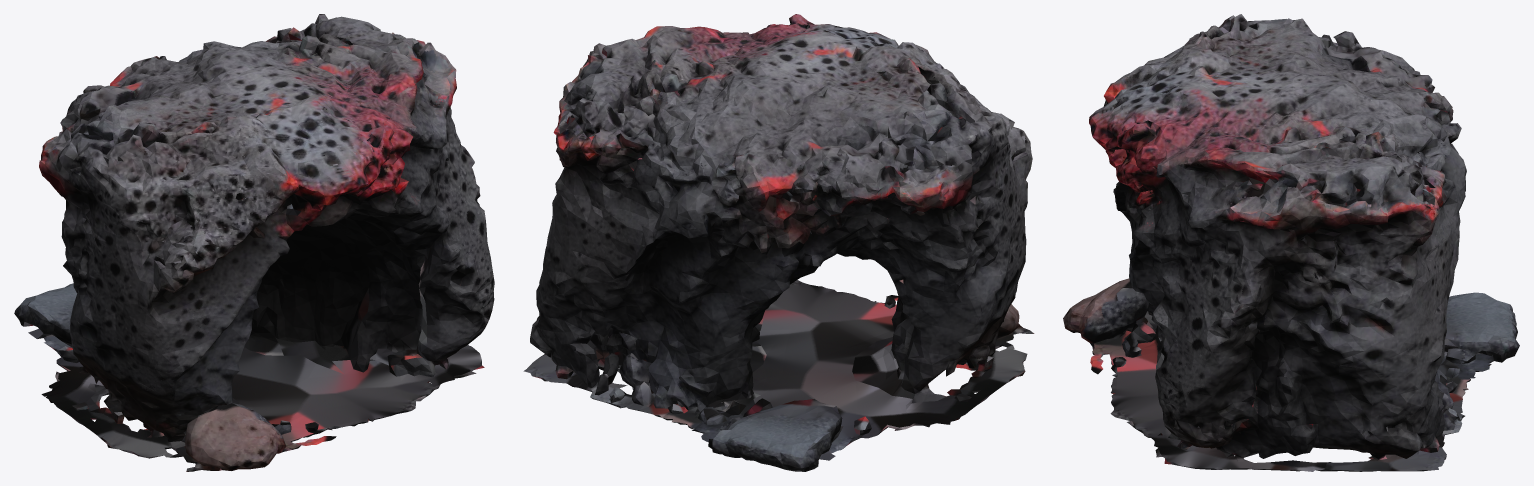
The model's file is traveler_env_coast_mouth_lava_tube_vesicular_00001_.glb.
3 views of the same model, side by side, from view 1: azimuth 30°, elevation 25°; view 2: azimuth 150°, elevation 25°; view 3: azimuth 270°, elevation 25° (orthographic).
Parts seen in each view (by area): view 1: temp_mesh.ply; view 2: temp_mesh.ply; view 3: temp_mesh.ply.
Boxes of the visible parts, left/top/right/bottom form: temp_mesh.ply: left=14, top=14, right=494, bottom=471; temp_mesh.ply: left=523, top=14, right=1034, bottom=471; temp_mesh.ply: left=1063, top=14, right=1519, bottom=471.
Bounding box in the file's own units: 1.95 × 1.4 × 1.92.
1 material, 1 textured.
